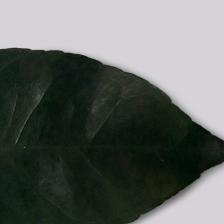healthy: (0, 45, 224, 222)
